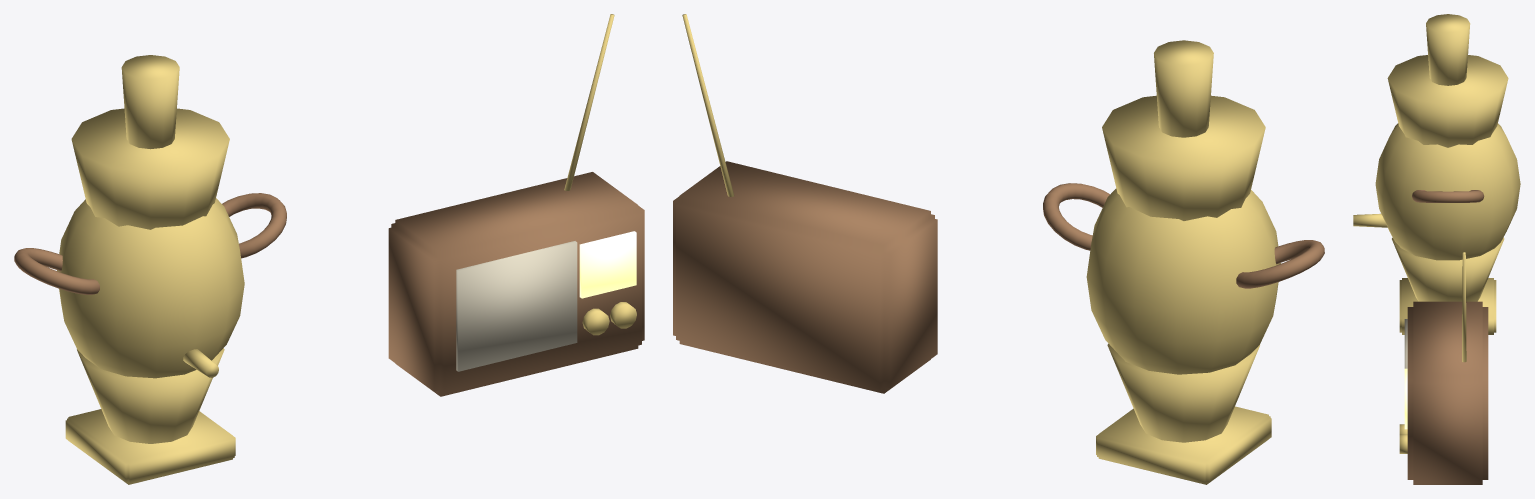
Rendered from samovar-prop.glb.
3 renders of one model, left to right at view 1: azimuth 30°, elevation 25°; view 2: azimuth 150°, elevation 25°; view 3: azimuth 270°, elevation 25°, orthographic. The views are drawn at different scales.
Parts seen in each view (by area): view 1: Samovar_Urn, Mayak_Radio; view 2: Samovar_Urn, Mayak_Radio; view 3: Samovar_Urn, Mayak_Radio.
Part boxes in pixels (bbox=[...]): Samovar_Urn: bbox=[14, 55, 286, 484]; Mayak_Radio: bbox=[388, 14, 644, 396]; Samovar_Urn: bbox=[1043, 40, 1324, 484]; Mayak_Radio: bbox=[673, 14, 937, 393]; Samovar_Urn: bbox=[1353, 14, 1520, 334]; Mayak_Radio: bbox=[1399, 252, 1488, 484].
Size of the model in its own units: 1.32 by 0.8 by 0.415.
